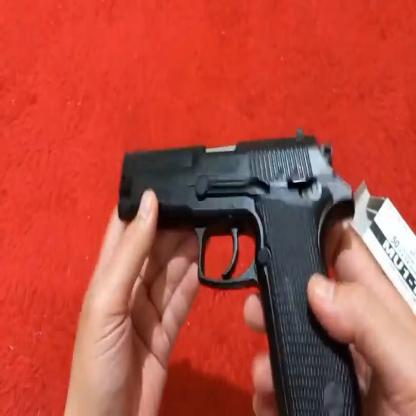handgun: (113, 116, 365, 416)
